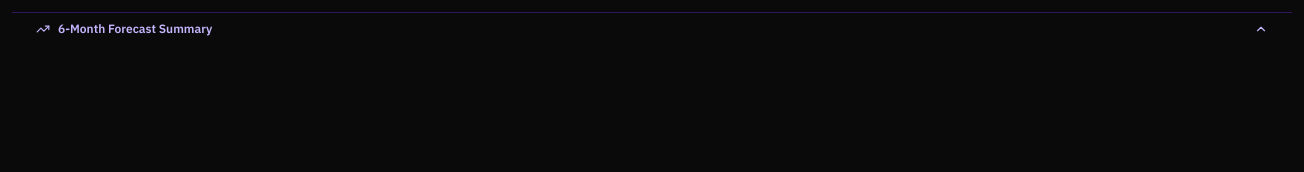
Test: ForecastSummaryPanel › number formatting › formats grams < 1000 as integer grams
Click the button "6-Month Forecast Summary": (135, 28) [12,13,1292,45]
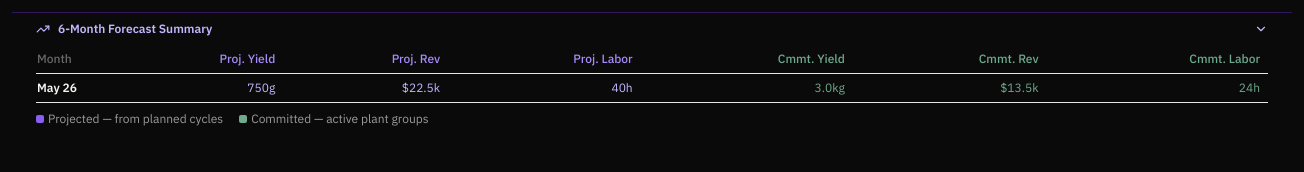
Now the table is shown, box [36,45,1268,103]
Now the text "750g" is shown, box [100,74,283,102]
